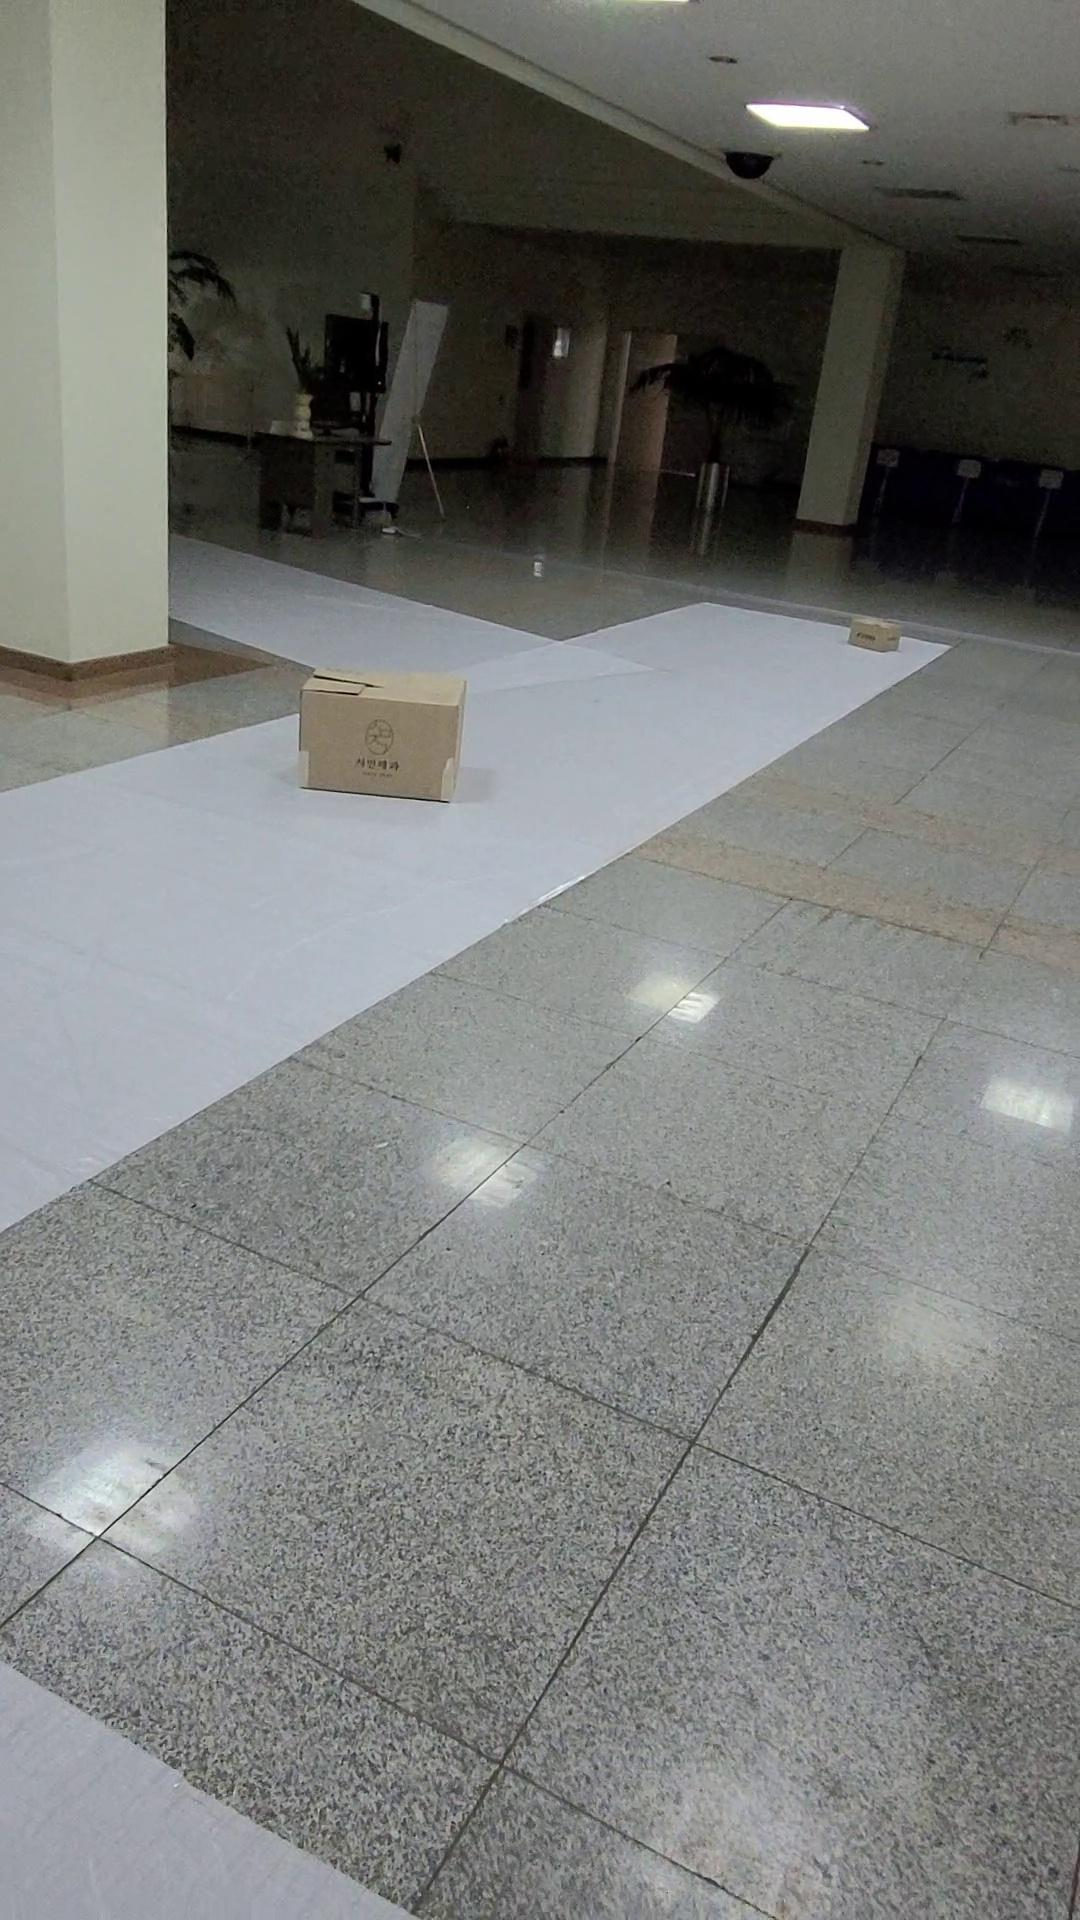Box: (298, 647, 469, 815), (814, 615, 919, 690)
